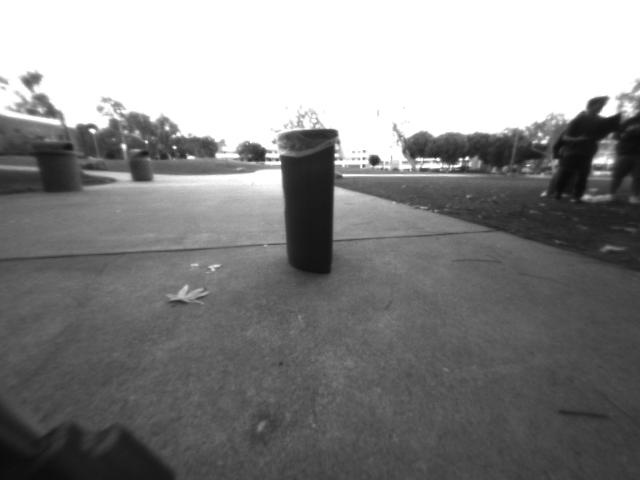trashcan_open: (273, 125, 343, 278)
